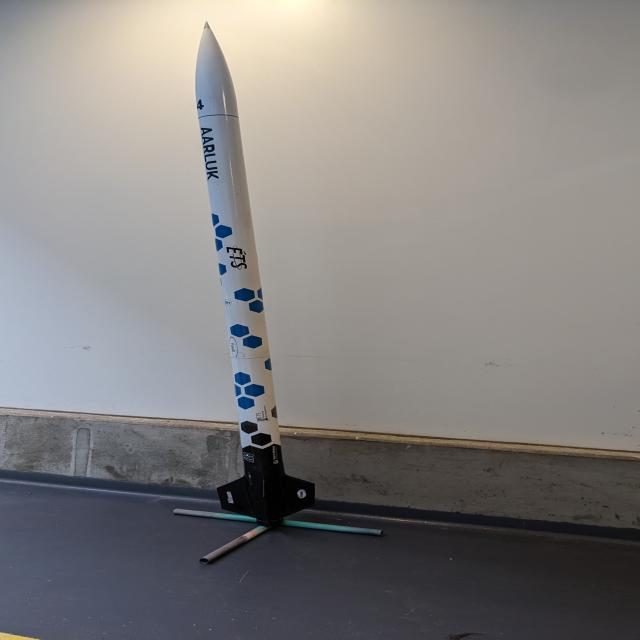Rocket: (195, 21, 315, 526)
